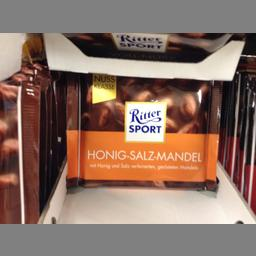chocolate: (63, 72, 223, 193)
